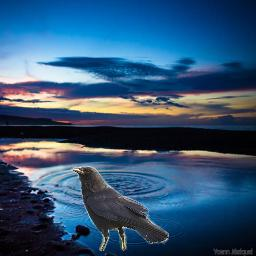Crow: (71, 166, 169, 251)
